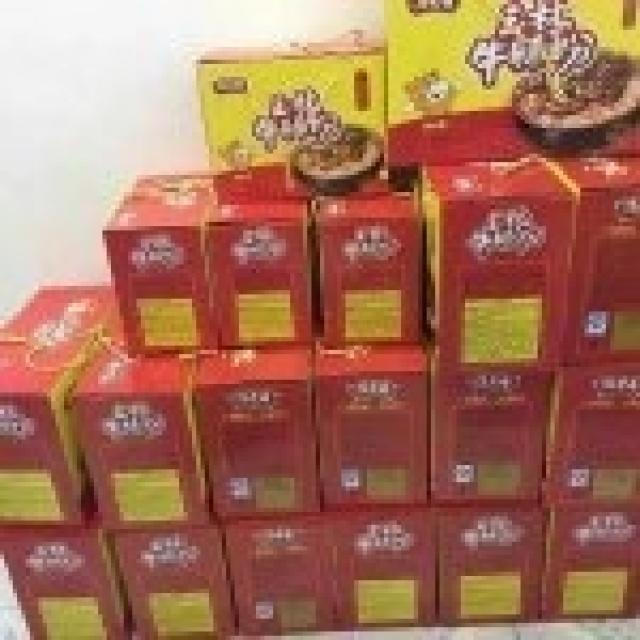box: (384, 0, 640, 166), (201, 30, 388, 201), (422, 158, 572, 367), (73, 303, 209, 529), (0, 286, 124, 525), (192, 341, 320, 521), (311, 346, 431, 512), (107, 175, 218, 350), (542, 158, 636, 363), (316, 179, 422, 346), (427, 367, 555, 503), (201, 201, 311, 354), (107, 521, 239, 636), (0, 525, 128, 640), (542, 358, 636, 508), (218, 521, 346, 631), (324, 508, 439, 627), (435, 503, 546, 623), (546, 508, 640, 619)
